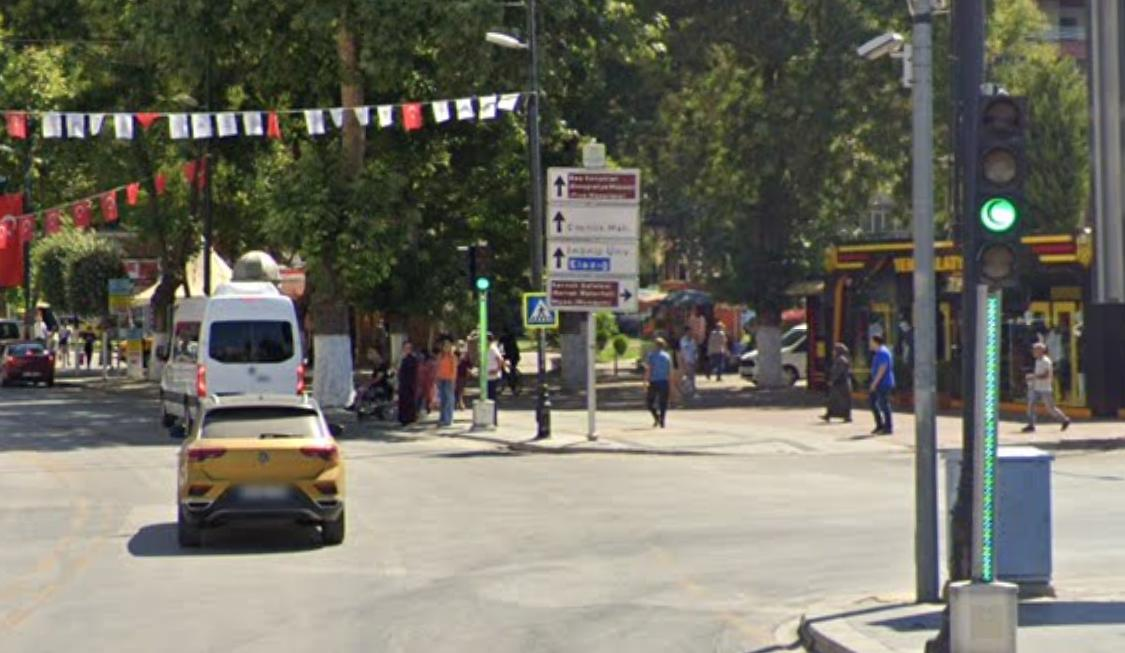greenlight: (972, 89, 1026, 287), (469, 240, 496, 295)
